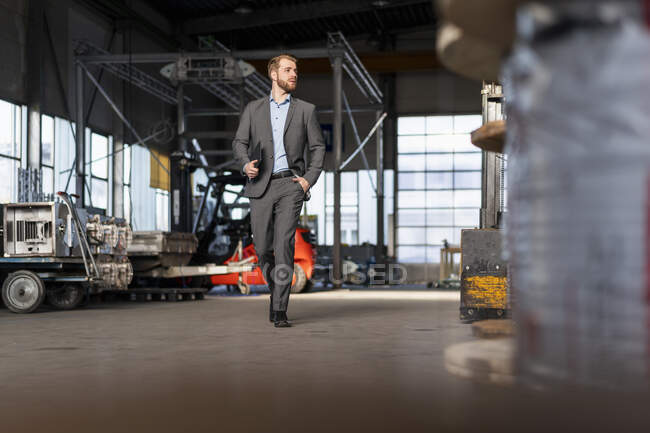person: (233, 56, 325, 329)
